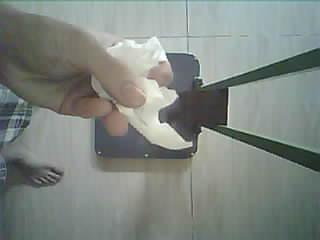paper: (91, 37, 190, 149)
